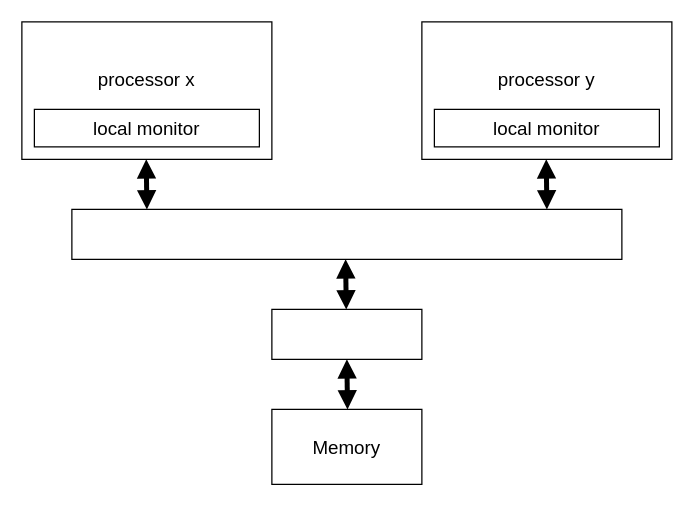
This 694x506 diagram has some shape labels left out. Each missing label, with the box of its shape:
AXI interconnect: (71, 208, 622, 259)
global monitor: (271, 308, 422, 359)
